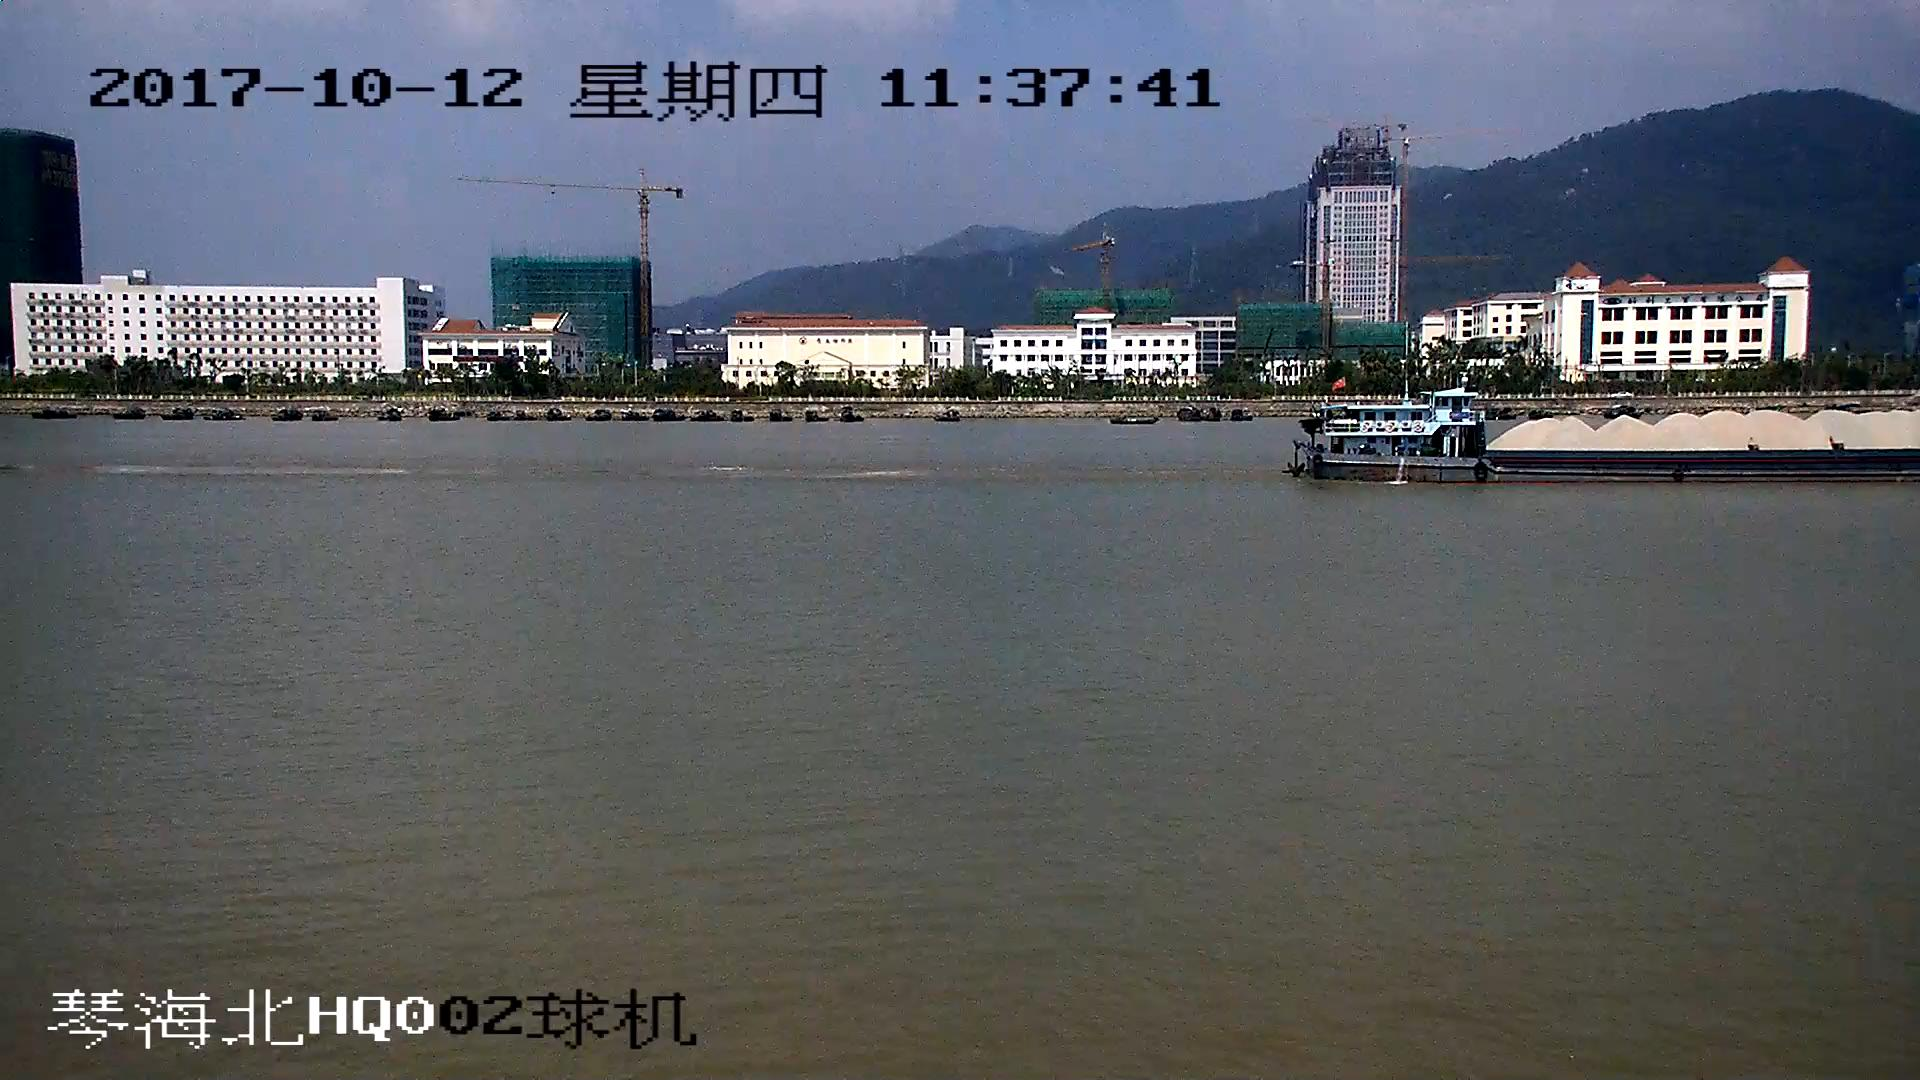ore carrier: (1300, 392, 1920, 484)
